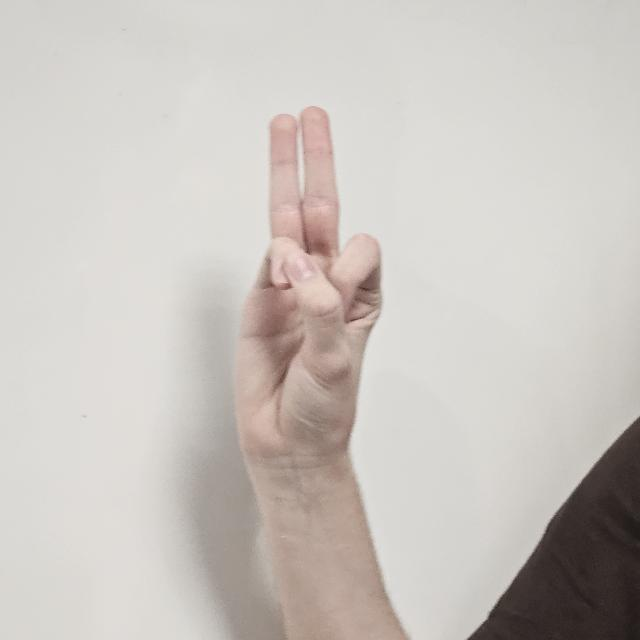R: (238, 100, 382, 522)
